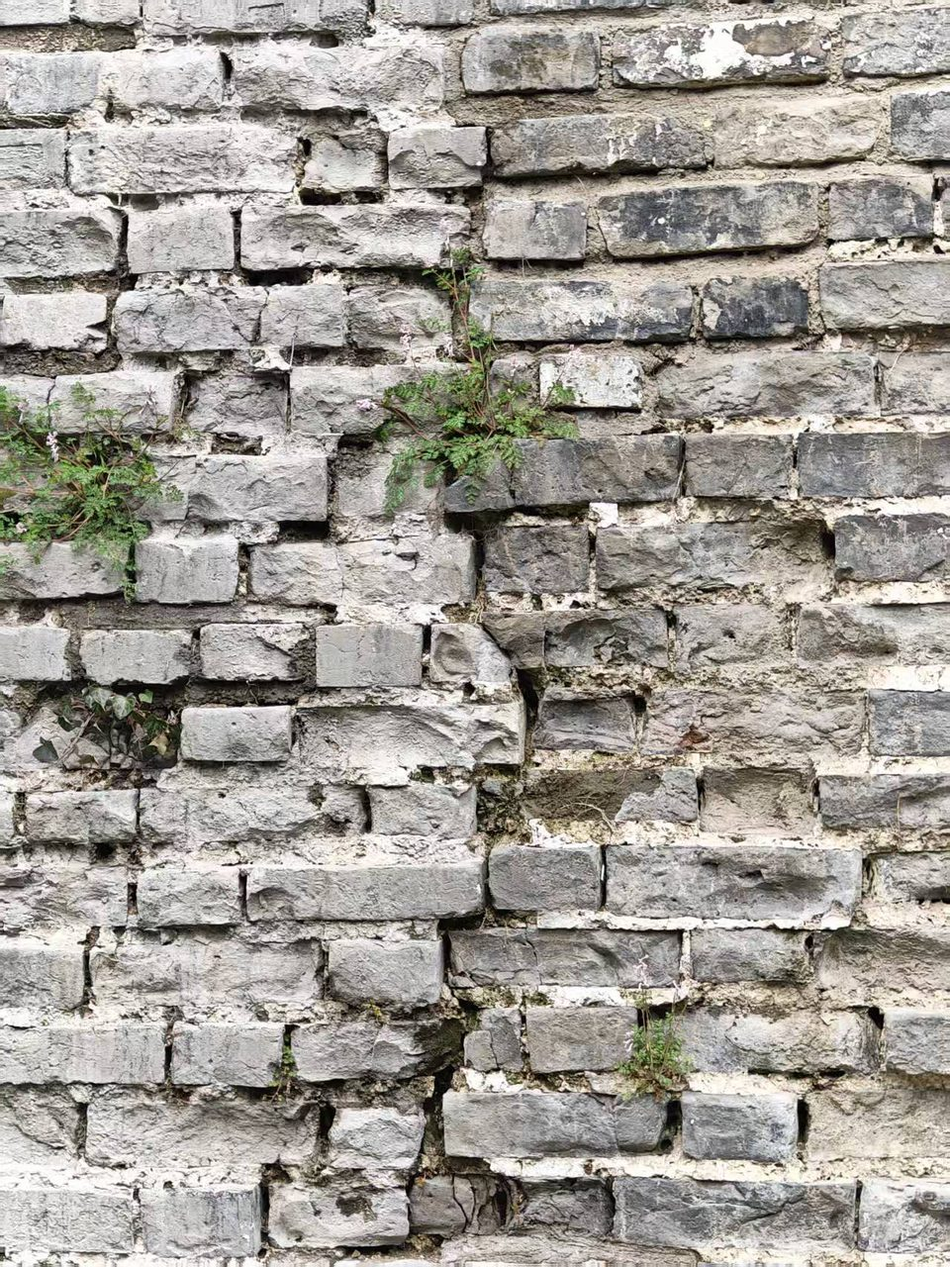crack: (392, 164, 540, 1247)
